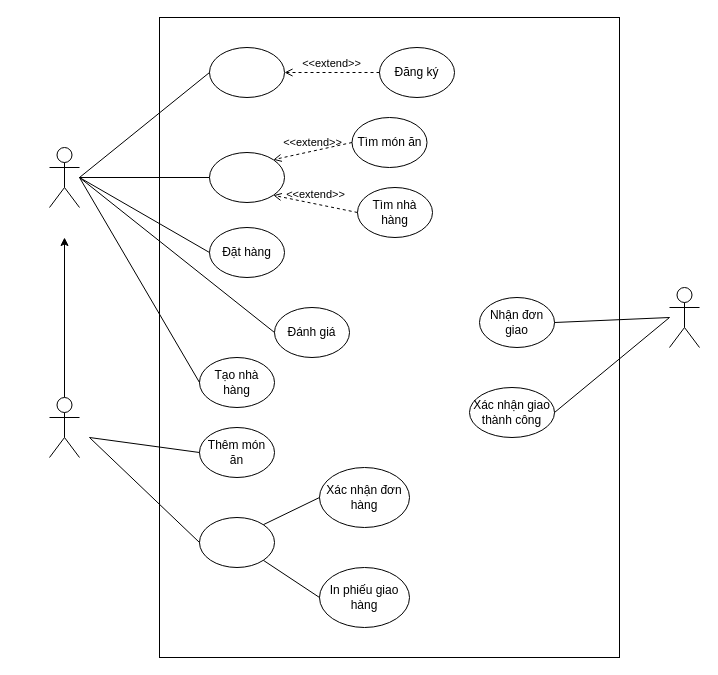
This 718x675 diagram has some shape labels left out. Here are the shapes that lost their labels. From the top down, the box of each, then its label:
(208, 46, 284, 98): Đăng nhập
(48, 146, 80, 208): Người dùng
(208, 152, 284, 202): Tìm kiếm
(668, 286, 700, 348): Tài xế
(48, 396, 80, 458): Quản lý nhà hàng
(198, 516, 274, 568): Quản lý dơn hàng
